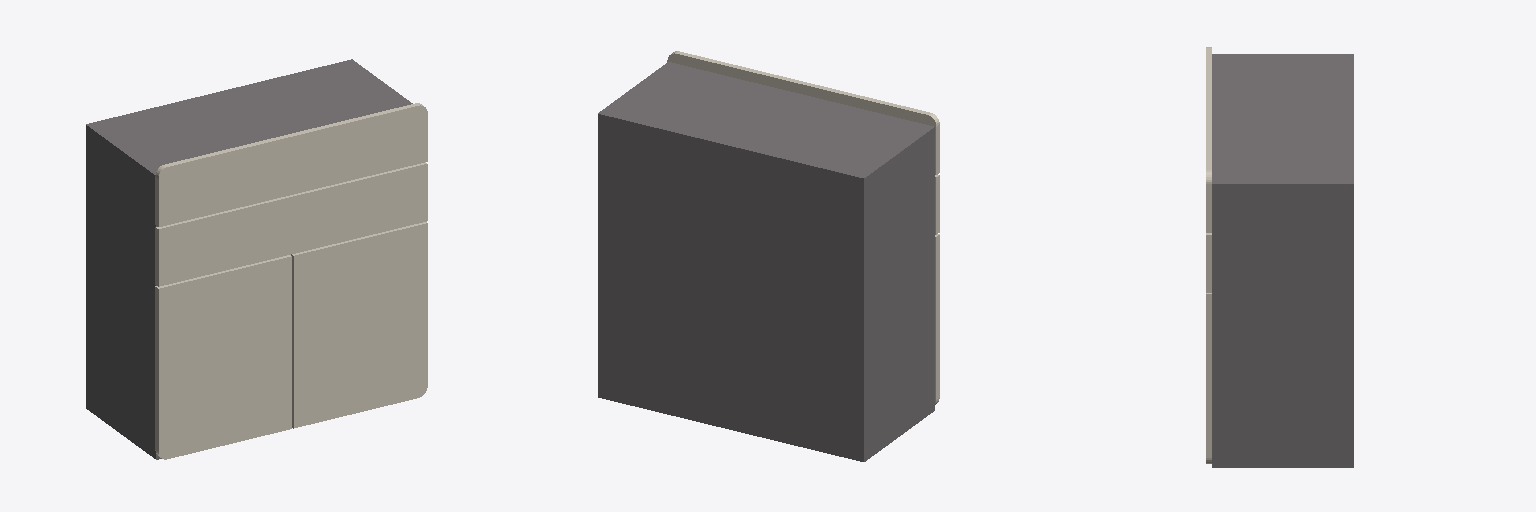
File: 2pir_komoda.obj
3 views of the same model, side by side, from view 1: azimuth 30°, elevation 25°; view 2: azimuth 150°, elevation 25°; view 3: azimuth 270°, elevation 25° (orthographic).
Parts seen in each view (by area): view 1: Rectangle10, Rectangle11; view 2: Rectangle11, Rectangle10; view 3: Rectangle11, Rectangle10.
Part boxes in pixels (bbox=[...]): Rectangle10: bbox=[155, 103, 427, 459]; Rectangle11: bbox=[86, 59, 412, 459]; Rectangle11: bbox=[598, 62, 934, 461]; Rectangle10: bbox=[667, 51, 939, 404]; Rectangle11: bbox=[1212, 54, 1353, 467]; Rectangle10: bbox=[1206, 47, 1211, 463].
Bounding box in the file's own units: 96.88 × 101 × 46.3.